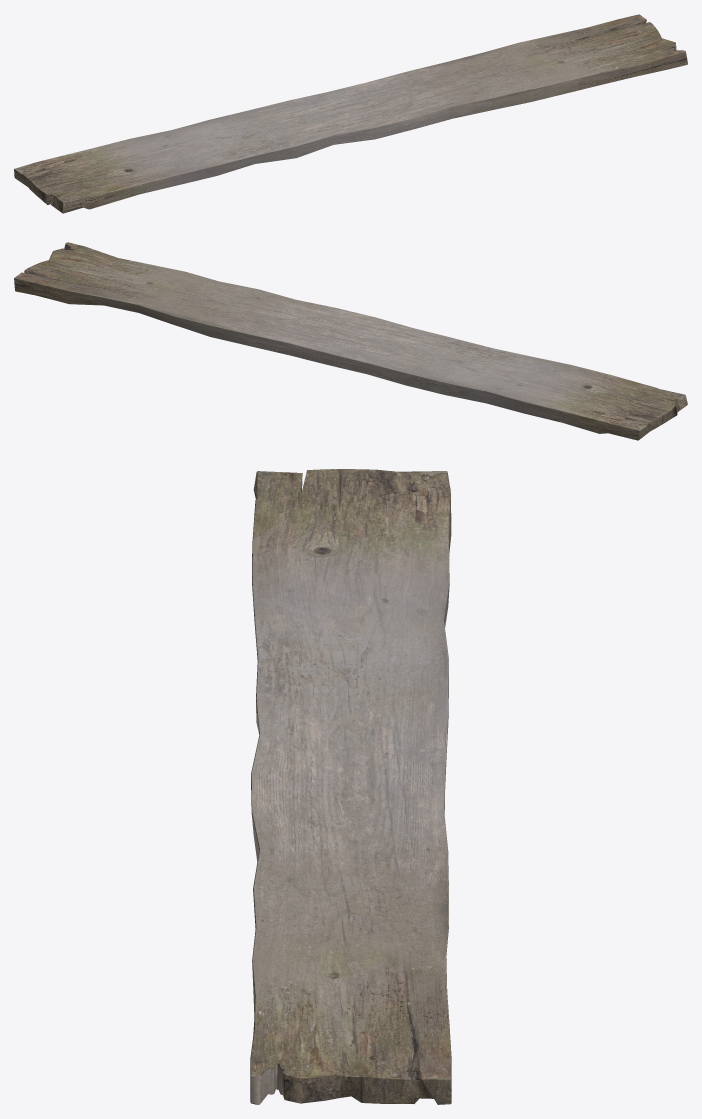
The model's file is SM_WoodPlank_01_07.fbx.
3 views of the same model, one above another, from view 1: azimuth 30°, elevation 25°; view 2: azimuth 150°, elevation 25°; view 3: azimuth 270°, elevation 25° (orthographic). The views are drawn at different scales.
Parts seen in each view (by area): view 1: sm_WoodPlank_01_07_LOD0; view 2: sm_WoodPlank_01_07_LOD0; view 3: sm_WoodPlank_01_07_LOD0.
Part boxes in pixels (x1,y1,x2,y2): sm_WoodPlank_01_07_LOD0: (14, 14, 687, 213); sm_WoodPlank_01_07_LOD0: (14, 242, 687, 440); sm_WoodPlank_01_07_LOD0: (250, 469, 451, 1104).
Size of the model in its own units: 20.92 by 151 by 3.67.
